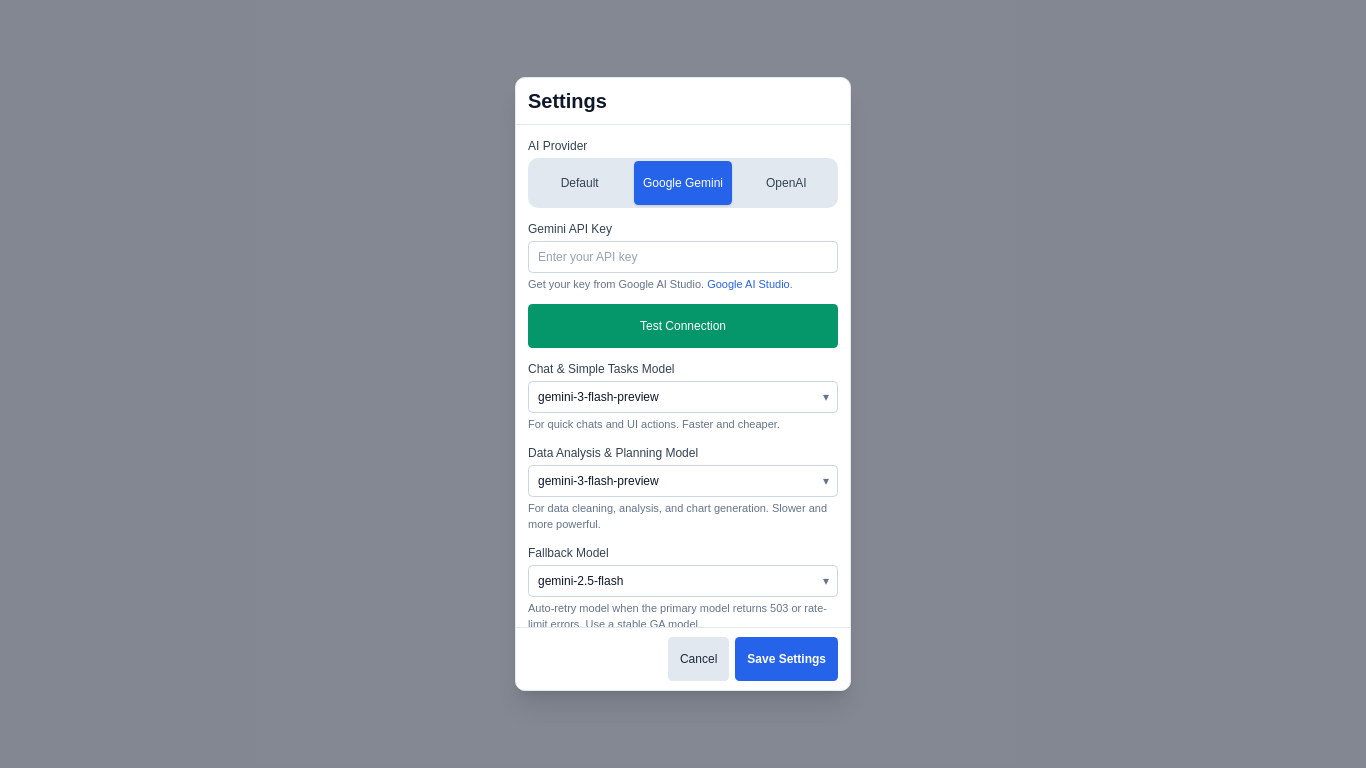
Scenario: SettingsModal › switches validation to the OpenAI key when the provider changes
This screenshot has width=1366, height=768.
Click the button "OpenAI" at (786, 183), box [738,161,835,205]
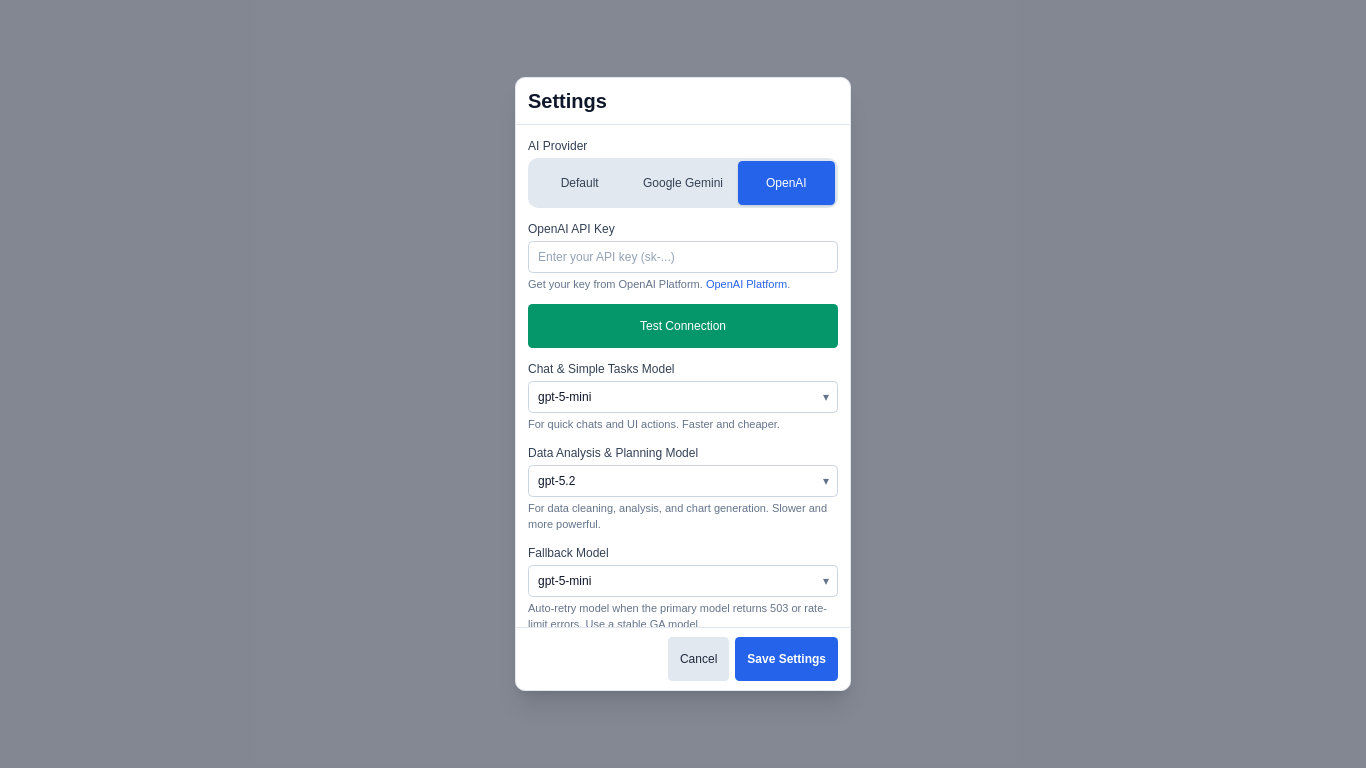
Click the button "Save Settings" at (787, 659), box [735,637,838,681]
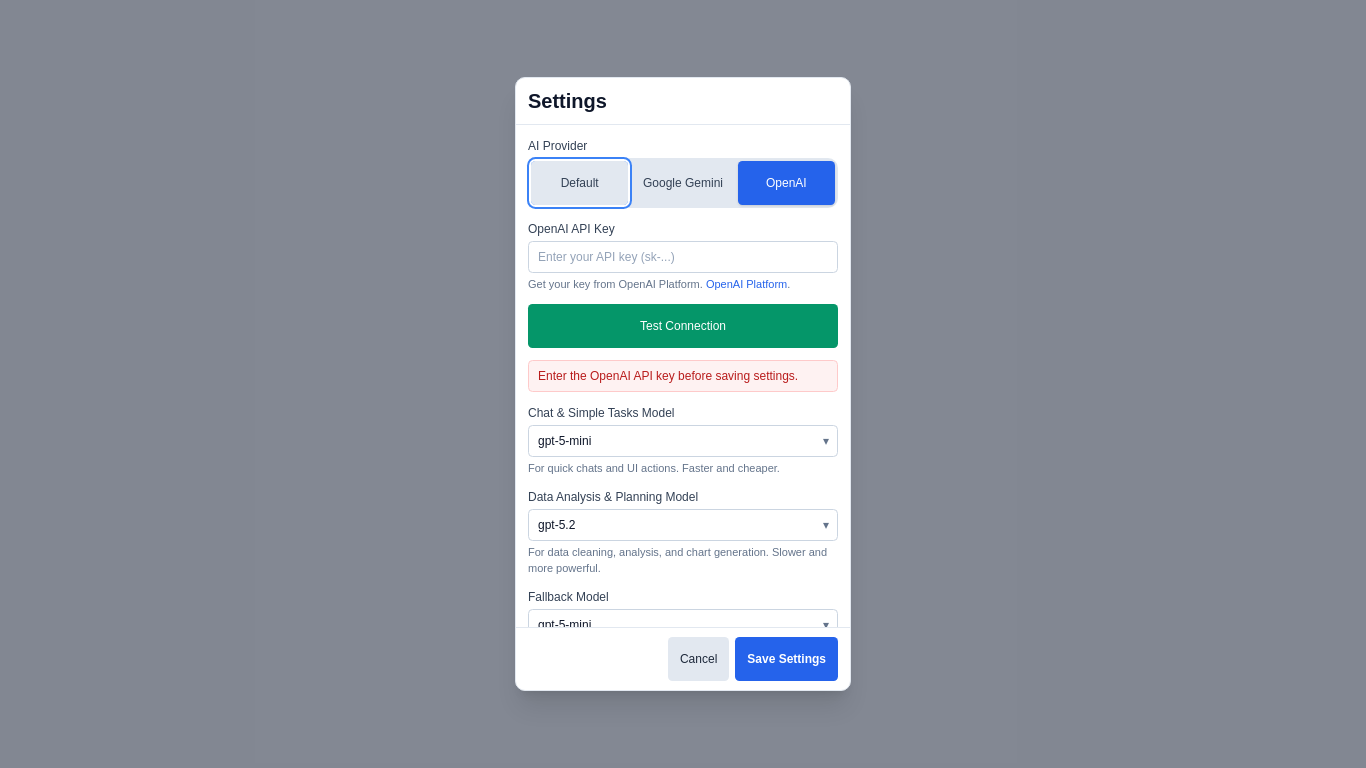
Now the message reads "Enter the OpenAI API key before saving settings.", box [538,369,798,383]
